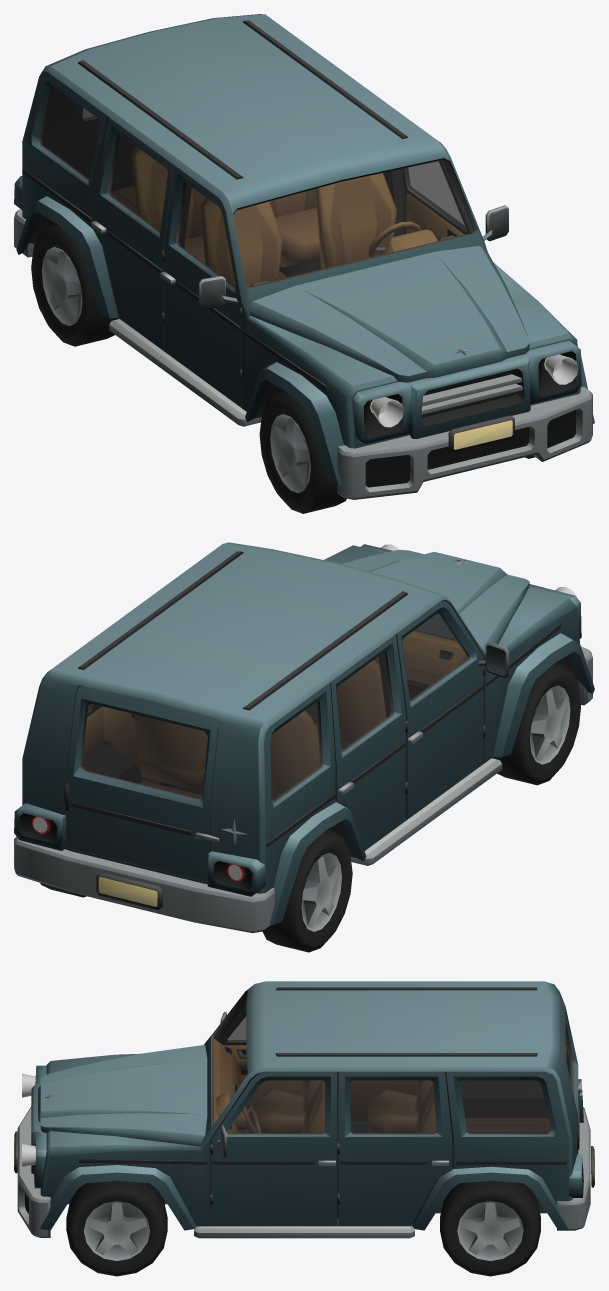
Rendered from TSP_SUV_01A.fbx.
3 views of the same model, one above another, from view 1: azimuth 30°, elevation 25°; view 2: azimuth 150°, elevation 25°; view 3: azimuth 270°, elevation 25° (orthographic). The views are drawn at different scales.
Visible parts, largest first — view 1: TSP_SUV_01A_Body, TSP_SUV_01A_Door_F.R, TSP_SUV_01A_Door_R.R, TSP_SUV_01A_Wheel_F.R, TSP_SUV_01A_Wheel_R.R, TSP_SUV_01A_Door_F.L, TSP_SUV_01A_Trunk, TSP_SUV_01A_Lights; view 2: TSP_SUV_01A_Body, TSP_SUV_01A_Trunk, TSP_SUV_01A_Door_F.R, TSP_SUV_01A_Door_R.R, TSP_SUV_01A_Wheel_R.R, TSP_SUV_01A_Wheel_F.R, TSP_SUV_01A_Door_R.L, TSP_SUV_01A_Lights; view 3: TSP_SUV_01A_Body, TSP_SUV_01A_Door_F.L, TSP_SUV_01A_Door_R.L, TSP_SUV_01A_Wheel_F.L, TSP_SUV_01A_Wheel_R.L, TSP_SUV_01A_Door_F.R, TSP_SUV_01A_Door_R.R, TSP_SUV_01A_Trunk, TSP_SUV_01A_Lights, TSP_SUV_01A_Steering_Wheel.
Boxes of the visible parts, x1,y1,x2,y2 form: TSP_SUV_01A_Body: (14,14,594,499); TSP_SUV_01A_Door_F.R: (160,165,241,406); TSP_SUV_01A_Door_R.R: (91,117,174,349); TSP_SUV_01A_Wheel_F.R: (259,391,346,513); TSP_SUV_01A_Wheel_R.R: (31,224,119,346); TSP_SUV_01A_Door_F.L: (401,161,508,241); TSP_SUV_01A_Trunk: (71,101,135,190); TSP_SUV_01A_Lights: (371,354,578,427); TSP_SUV_01A_Body: (14,542,594,933); TSP_SUV_01A_Trunk: (64,685,220,881); TSP_SUV_01A_Door_F.R: (395,601,508,819); TSP_SUV_01A_Door_R.R: (330,634,406,850); TSP_SUV_01A_Wheel_R.R: (262,830,352,952); TSP_SUV_01A_Wheel_F.R: (492,663,580,785); TSP_SUV_01A_Door_R.L: (103,707,140,772); TSP_SUV_01A_Lights: (33,544,576,879); TSP_SUV_01A_Body: (14,981,594,1238); TSP_SUV_01A_Door_F.L: (211,1071,336,1225); TSP_SUV_01A_Door_R.L: (338,1071,452,1225); TSP_SUV_01A_Wheel_F.L: (66,1181,167,1276); TSP_SUV_01A_Wheel_R.L: (440,1181,540,1276); TSP_SUV_01A_Door_F.R: (218,1006,304,1121); TSP_SUV_01A_Door_R.R: (351,1080,417,1121); TSP_SUV_01A_Trunk: (559,998,581,1154); TSP_SUV_01A_Lights: (22,1074,35,1167); TSP_SUV_01A_Steering_Wheel: (235,1101,260,1132).
Size of the model in its own units: 2.71 by 2.11 by 5.39.
